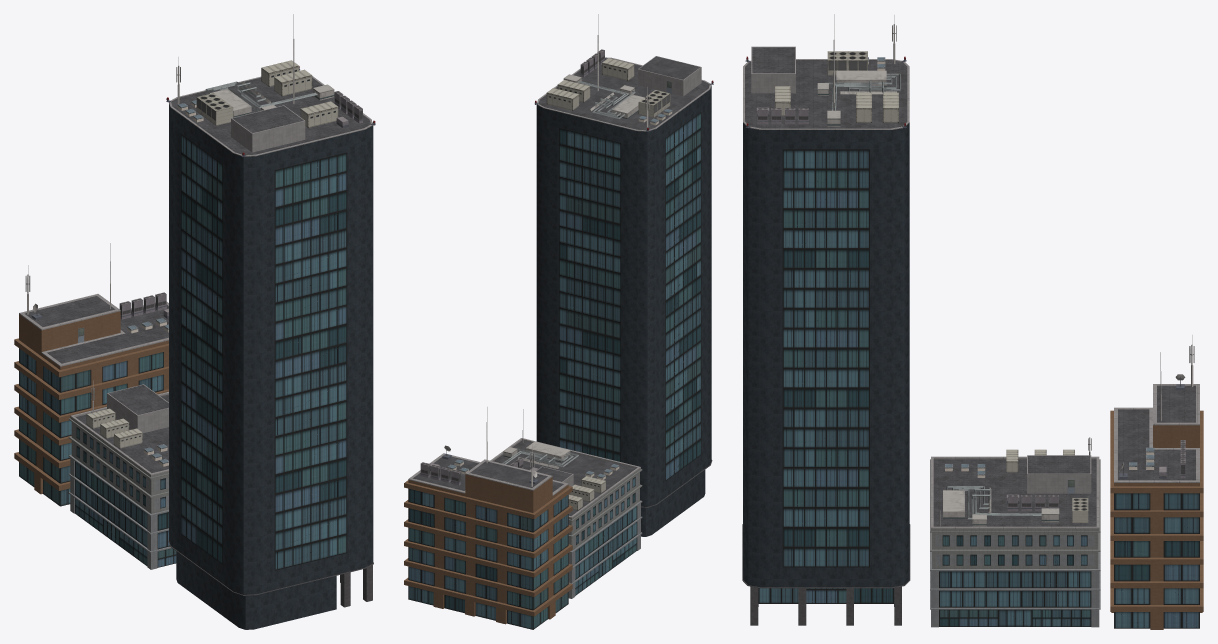
The model's file is buildSetE.FBX.
3 views of the same model, side by side, from view 1: azimuth 30°, elevation 25°; view 2: azimuth 150°, elevation 25°; view 3: azimuth 270°, elevation 25° (orthographic). The views are drawn at different scales.
Parts seen in each view (by area): view 1: buildSetE; view 2: buildSetE; view 3: buildSetE.
Boxes of the visible parts, x1,y1,x2,y2 form: buildSetE: [14, 14, 375, 629]; buildSetE: [404, 14, 713, 629]; buildSetE: [742, 14, 1203, 629].
Size of what is drawn, in the model's own units: 916 by 2307 by 3263.
